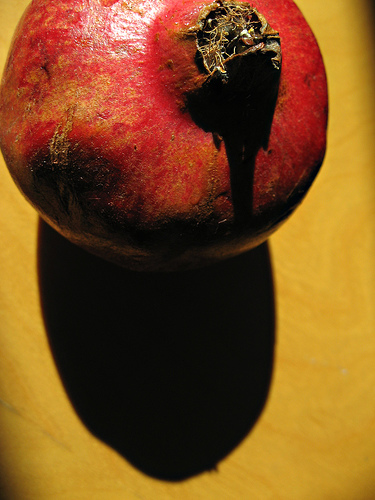pomogranate: (2, 1, 332, 262)
